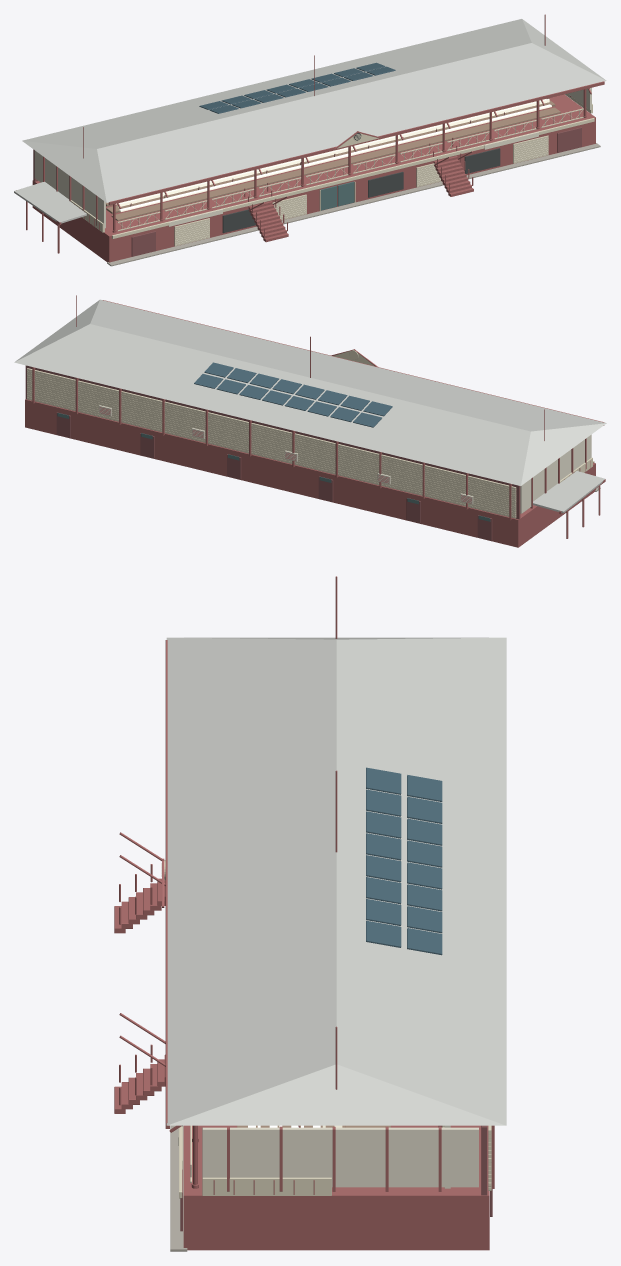
The model's file is edinburgh-gardens-kevin-murray-stand.glb.
3 renders of one model, top to bottom at view 1: azimuth 30°, elevation 25°; view 2: azimuth 150°, elevation 25°; view 3: azimuth 270°, elevation 25°, orthographic. The views are drawn at different scales.
Visible parts, largest first — view 1: Kevin Murray Stand optimized runtime mesh; view 2: Kevin Murray Stand optimized runtime mesh; view 3: Kevin Murray Stand optimized runtime mesh.
Boxes of the visible parts, x1,y1,x2,y2 form: Kevin Murray Stand optimized runtime mesh: (14, 14, 606, 266); Kevin Murray Stand optimized runtime mesh: (14, 295, 606, 547); Kevin Murray Stand optimized runtime mesh: (114, 576, 506, 1251).
Size of the model in its own units: 51.56 by 11.35 by 16.66.
